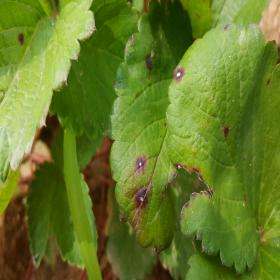Leaf Spot: (164, 21, 279, 275), (108, 0, 195, 254)
